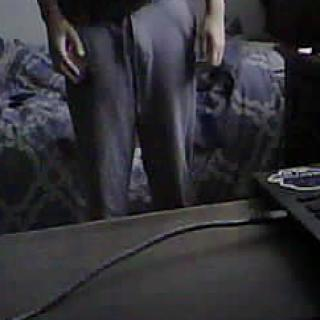Gray Sweatpants: (62, 7, 212, 221)
